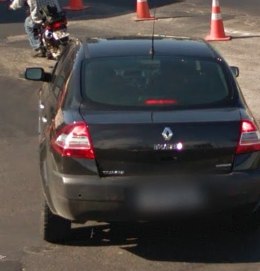car: (24, 35, 260, 244)
